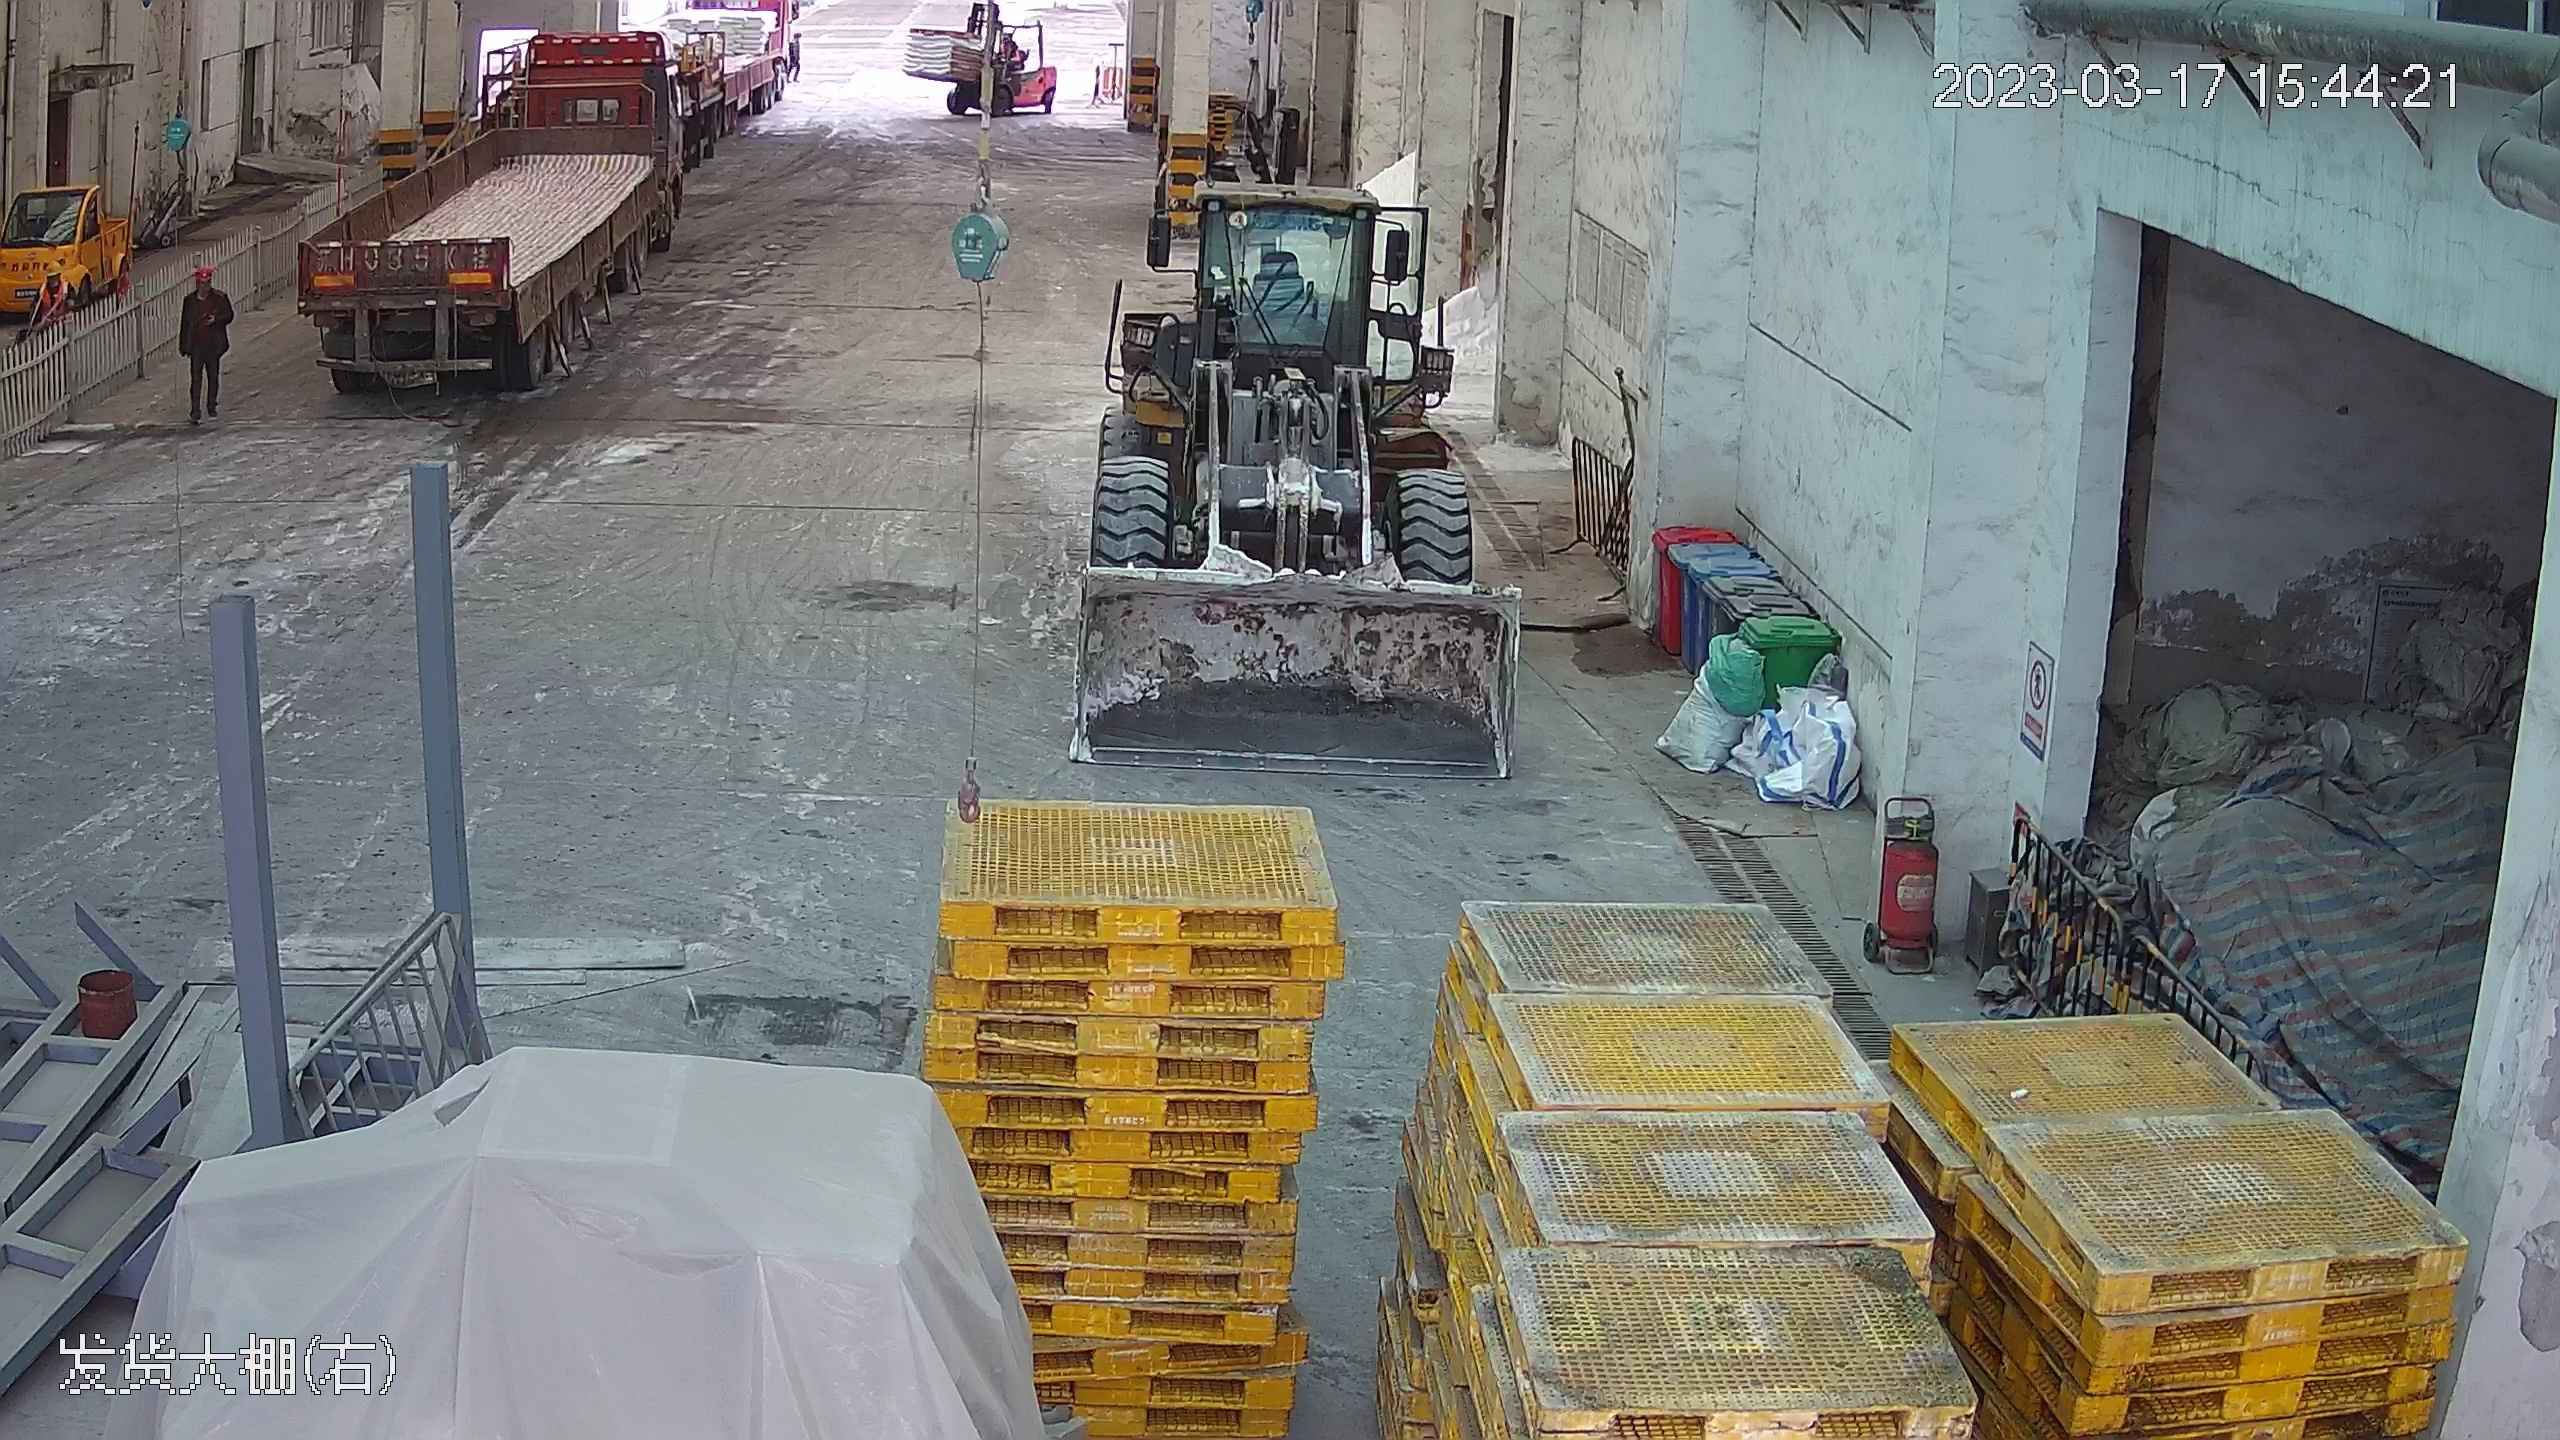head: (181, 256, 226, 309)
helmet: (194, 258, 214, 275)
people: (174, 255, 233, 423)
truck: (288, 7, 706, 407)
